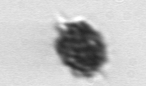plankton: (49, 13, 113, 81)
